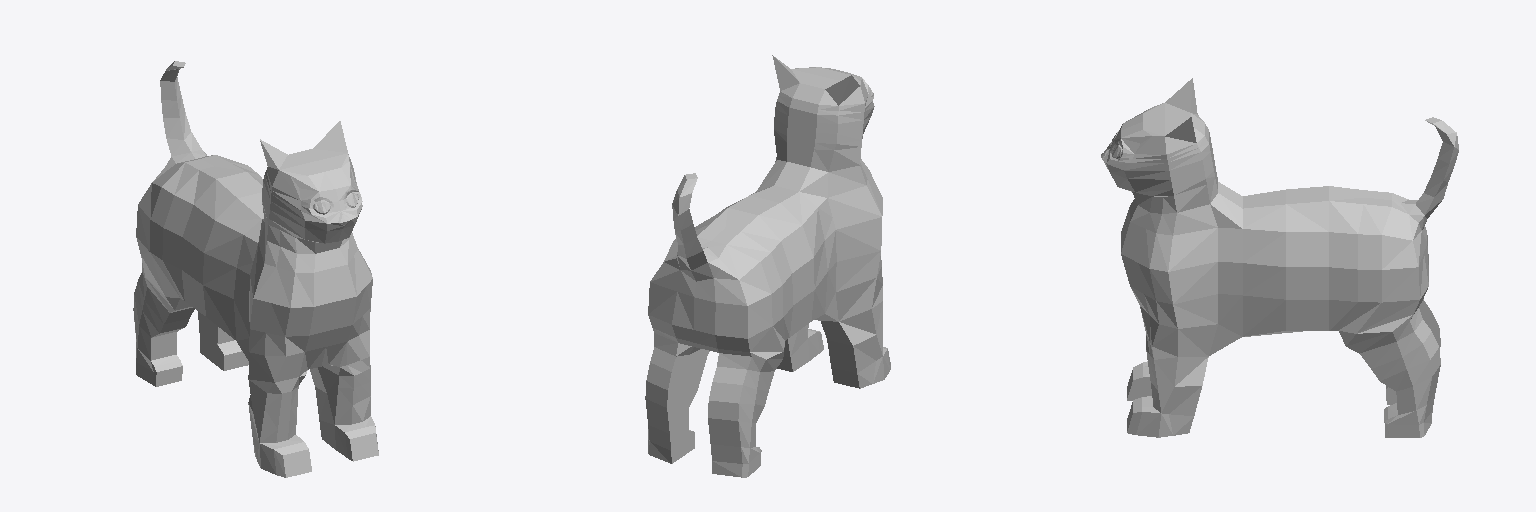
File: Texture_Ready_Cat.obj
3 renders of one model, left to right at view 1: azimuth 30°, elevation 25°; view 2: azimuth 150°, elevation 25°; view 3: azimuth 270°, elevation 25°, orthographic.
Visible parts, largest first — view 1: polySurface3 pCube4; view 2: polySurface3 pCube4; view 3: polySurface3 pCube4.
Boxes of the visible parts, <box> form: polySurface3 pCube4: <box>133,61,378,477</box>; polySurface3 pCube4: <box>645,55,890,477</box>; polySurface3 pCube4: <box>1101,78,1458,437</box>.
Bounding box in the file's own units: 19.82 × 50.29 × 51.46.